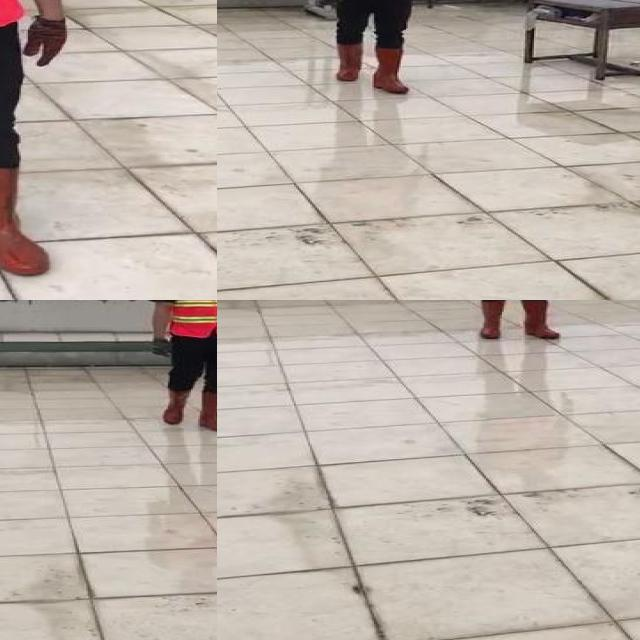boots: (0, 157, 51, 277), (372, 48, 415, 94), (519, 300, 555, 339), (476, 301, 508, 339), (337, 43, 363, 81), (164, 386, 190, 424), (200, 389, 217, 431)
hand_glove: (23, 15, 69, 68), (150, 336, 179, 361), (411, 0, 439, 10), (315, 0, 340, 10)
person: (0, 0, 95, 283), (302, 0, 450, 99), (138, 300, 217, 439), (461, 300, 582, 345)
vest: (171, 300, 217, 337)
